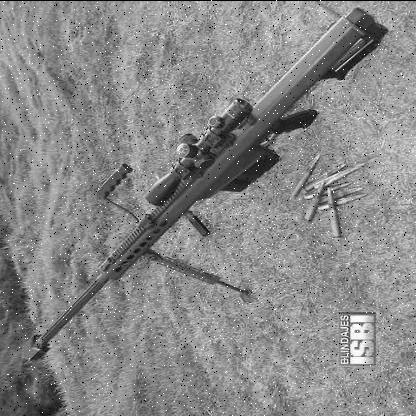rifle: (14, 1, 392, 368)
